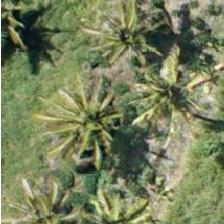Kelapa_Sawit: (126, 46, 216, 136), (46, 76, 136, 166), (83, 0, 173, 85), (2, 169, 92, 224), (77, 178, 167, 224)
